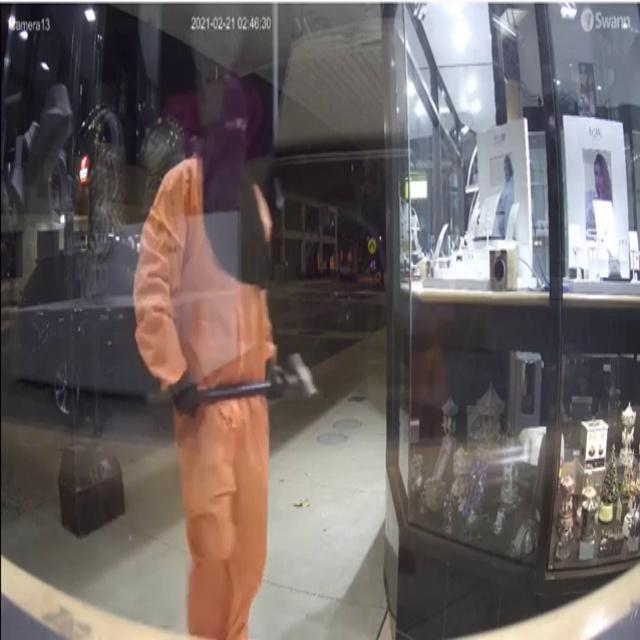fight: (107, 60, 350, 640)
